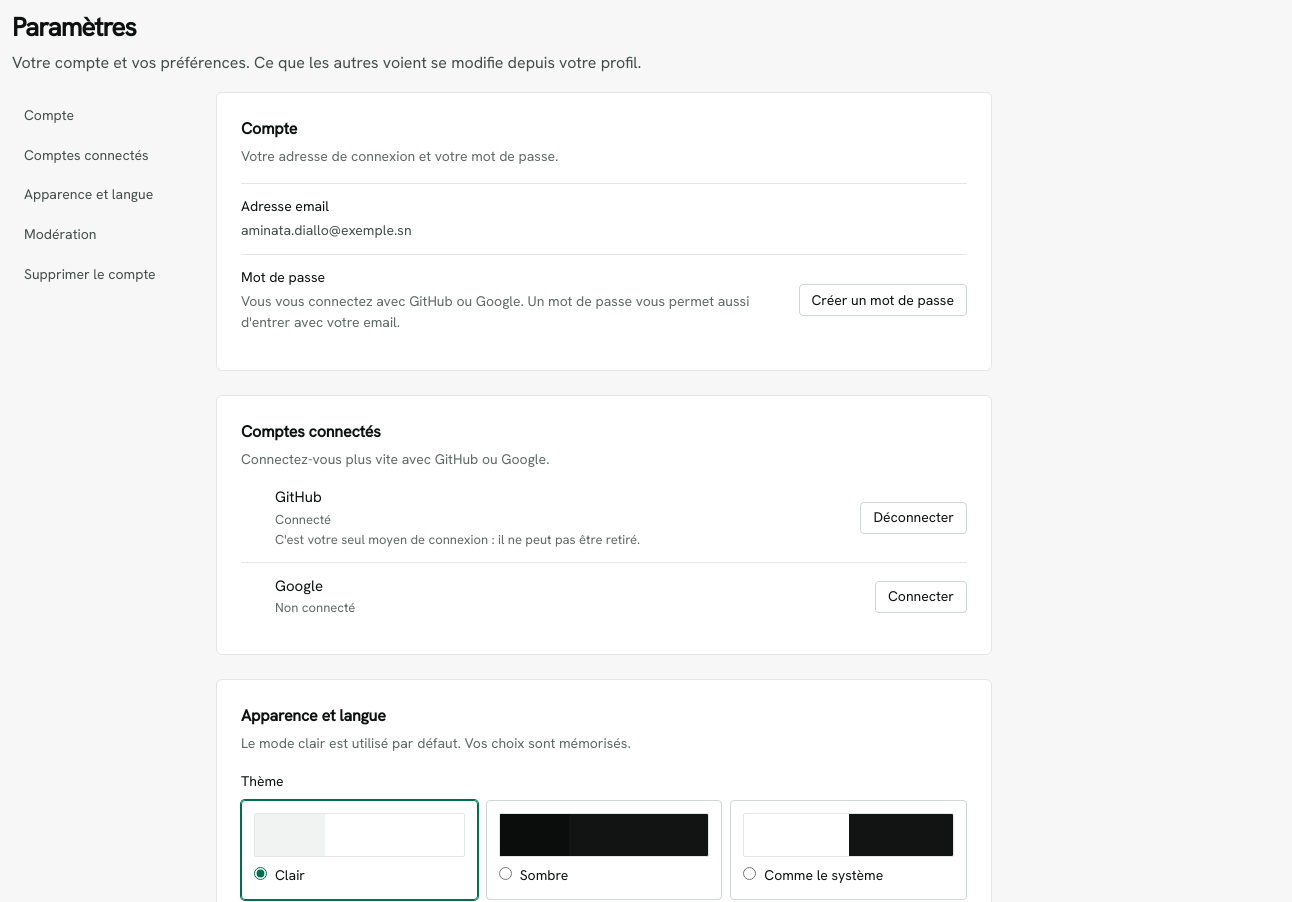
Test: SettingsPage › envoie le lien pour créer un mot de passe à l'adresse du compte
The image size is (1292, 902).
Click the button "Créer un mot de passe": (883,300) [798,284,967,316]
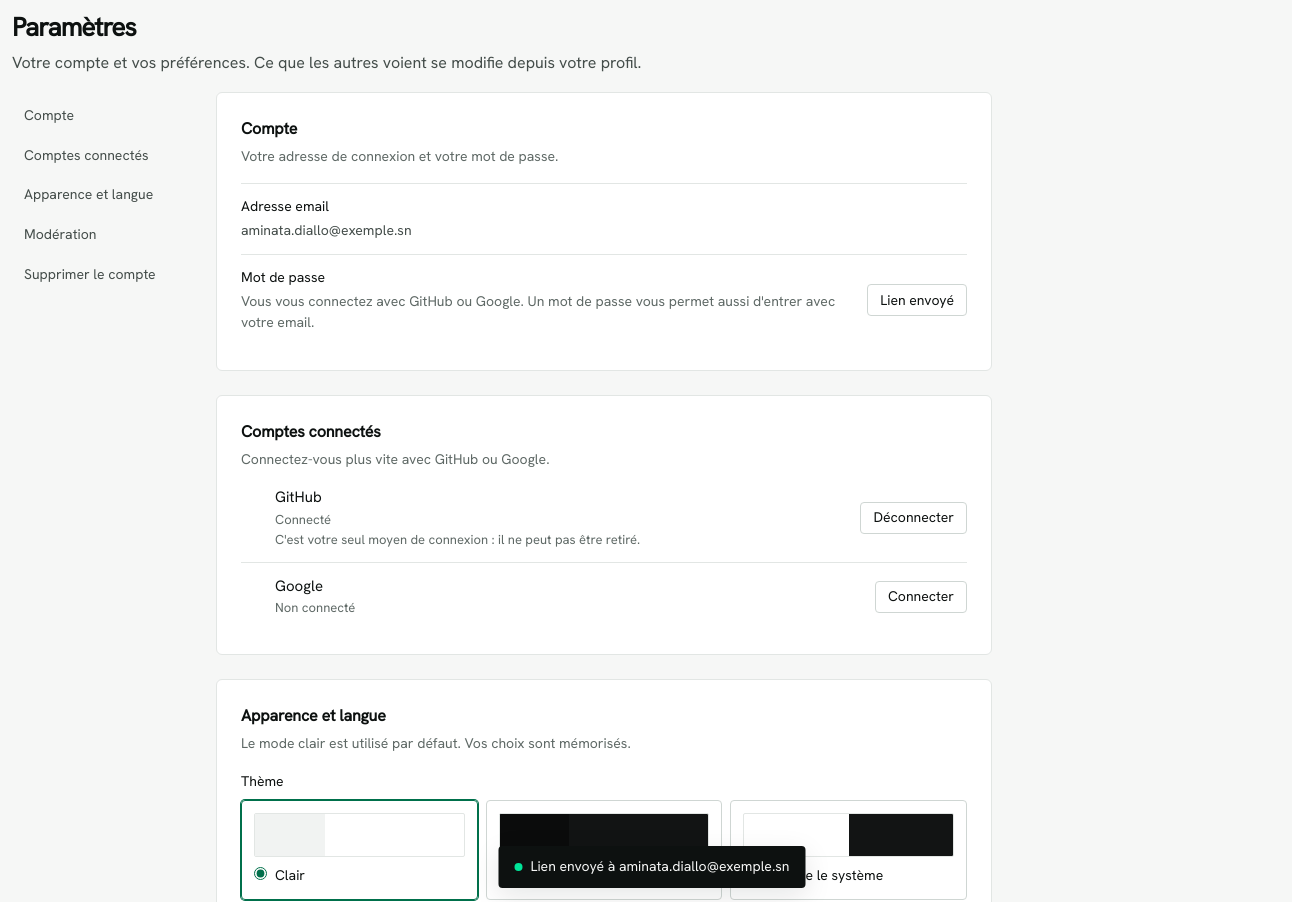
expect the button "Lien envoyé" is shown: met, box [867,284,967,316]
